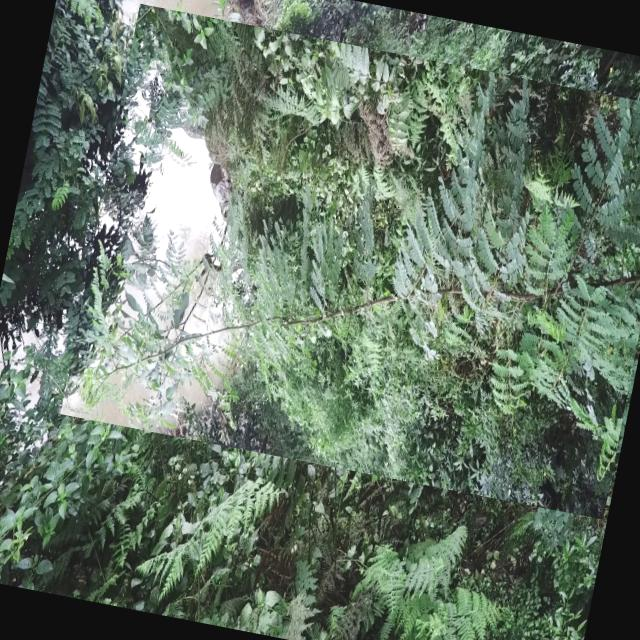Mysore-Thorn-Weed: (60, 4, 640, 520)
